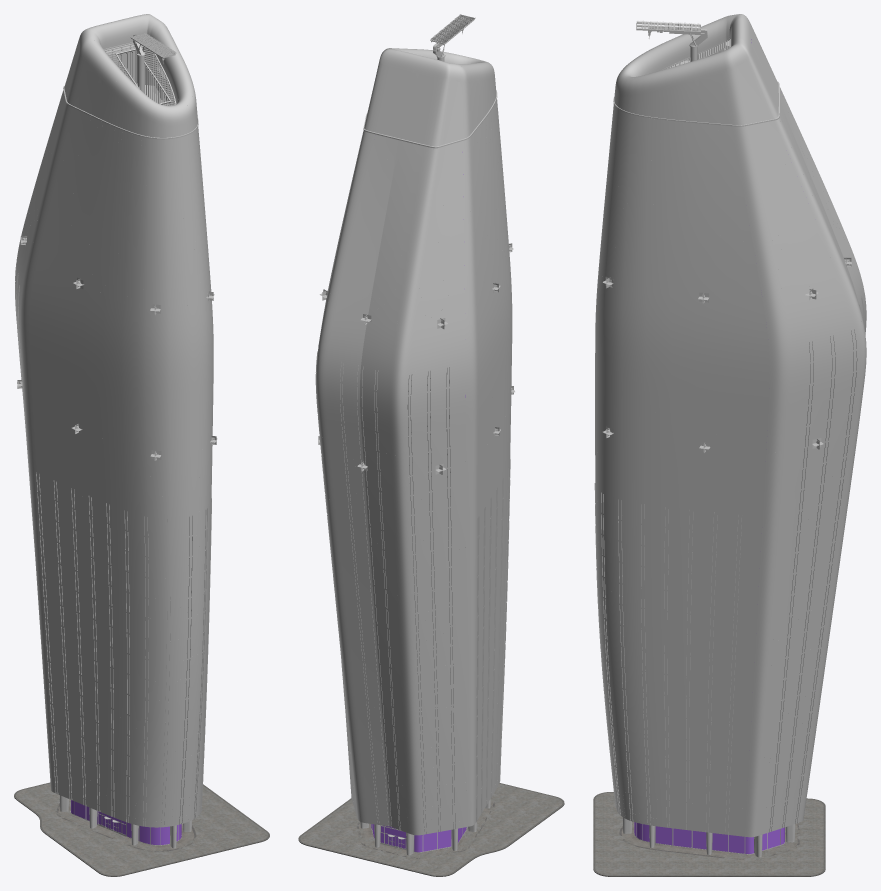
File: One_Blackfairs_Skyscraper.fbx
3 views of the same model, side by side, from view 1: azimuth 30°, elevation 25°; view 2: azimuth 150°, elevation 25°; view 3: azimuth 270°, elevation 25° (orthographic). The views are drawn at different scales.
Parts seen in each view (by area): view 1: Building_Facade.003, Building_Facade.006, Sidewalk_02, Building_Facade.007, Building_Facade.004, Top_Piece, Sidewalk_01, Glass_Lobby.002, Building_Maintenance_Unit; view 2: Building_Facade.003, Building_Facade.006, Building_Facade.007, Sidewalk_02, Building_Facade.004, Sidewalk_01, Glass_Lobby.002, Building_Maintenance_Unit; view 3: Building_Facade.003, Building_Facade.006, Sidewalk_02, Building_Facade.007, Building_Facade.004, Glass_Lobby.002, Sidewalk_01, Building_Maintenance_Unit, Concrete_Pillar.
Boxes of the visible parts, x1=… form: Building_Facade.003: x1=15, y1=91, x2=213, y2=801; Building_Facade.006: x1=63, y1=14, x2=198, y2=139; Sidewalk_02: x1=16, y1=783, x2=267, y2=875; Building_Facade.007: x1=15, y1=262, x2=211, y2=798; Building_Facade.004: x1=49, y1=763, x2=202, y2=827; Top_Piece: x1=103, y1=42, x2=176, y2=105; Sidewalk_01: x1=14, y1=782, x2=269, y2=876; Glass_Lobby.002: x1=71, y1=800, x2=181, y2=844; Building_Maintenance_Unit: x1=130, y1=32, x2=176, y2=93; Building_Facade.003: x1=316, y1=99, x2=512, y2=810; Building_Facade.006: x1=363, y1=48, x2=497, y2=148; Building_Facade.007: x1=315, y1=343, x2=510, y2=808; Sidewalk_02: x1=300, y1=783, x2=562, y2=875; Building_Facade.004: x1=349, y1=754, x2=501, y2=835; Sidewalk_01: x1=298, y1=783, x2=564, y2=876; Glass_Lobby.002: x1=371, y1=824, x2=466, y2=852; Building_Maintenance_Unit: x1=430, y1=14, x2=475, y2=61; Building_Facade.003: x1=595, y1=87, x2=866, y2=809; Building_Facade.006: x1=613, y1=14, x2=779, y2=126; Sidewalk_02: x1=595, y1=792, x2=823, y2=875; Building_Facade.007: x1=594, y1=296, x2=864, y2=804; Building_Facade.004: x1=612, y1=780, x2=807, y2=837; Glass_Lobby.002: x1=634, y1=822, x2=784, y2=853; Sidewalk_01: x1=593, y1=792, x2=825, y2=876; Building_Maintenance_Unit: x1=636, y1=21, x2=707, y2=61; Concrete_Pillar: x1=649, y1=824, x2=795, y2=857.
Bounding box in the file's own units: 3801 × 17039 × 5199.
